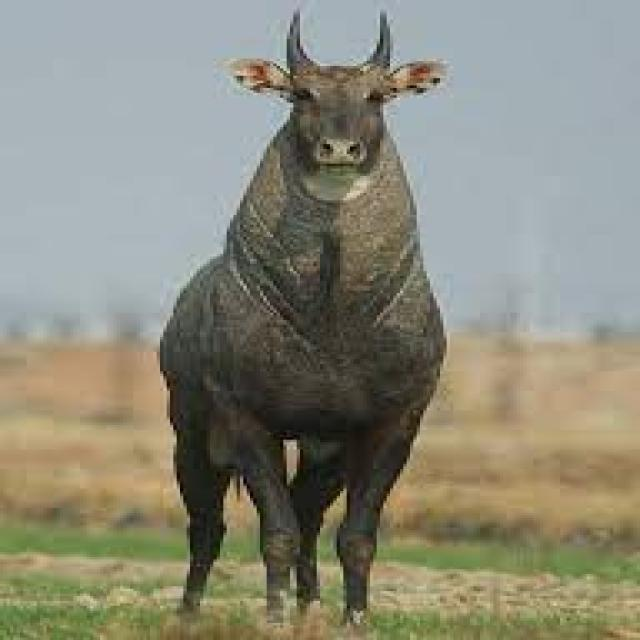objects: (96, 0, 528, 640)
